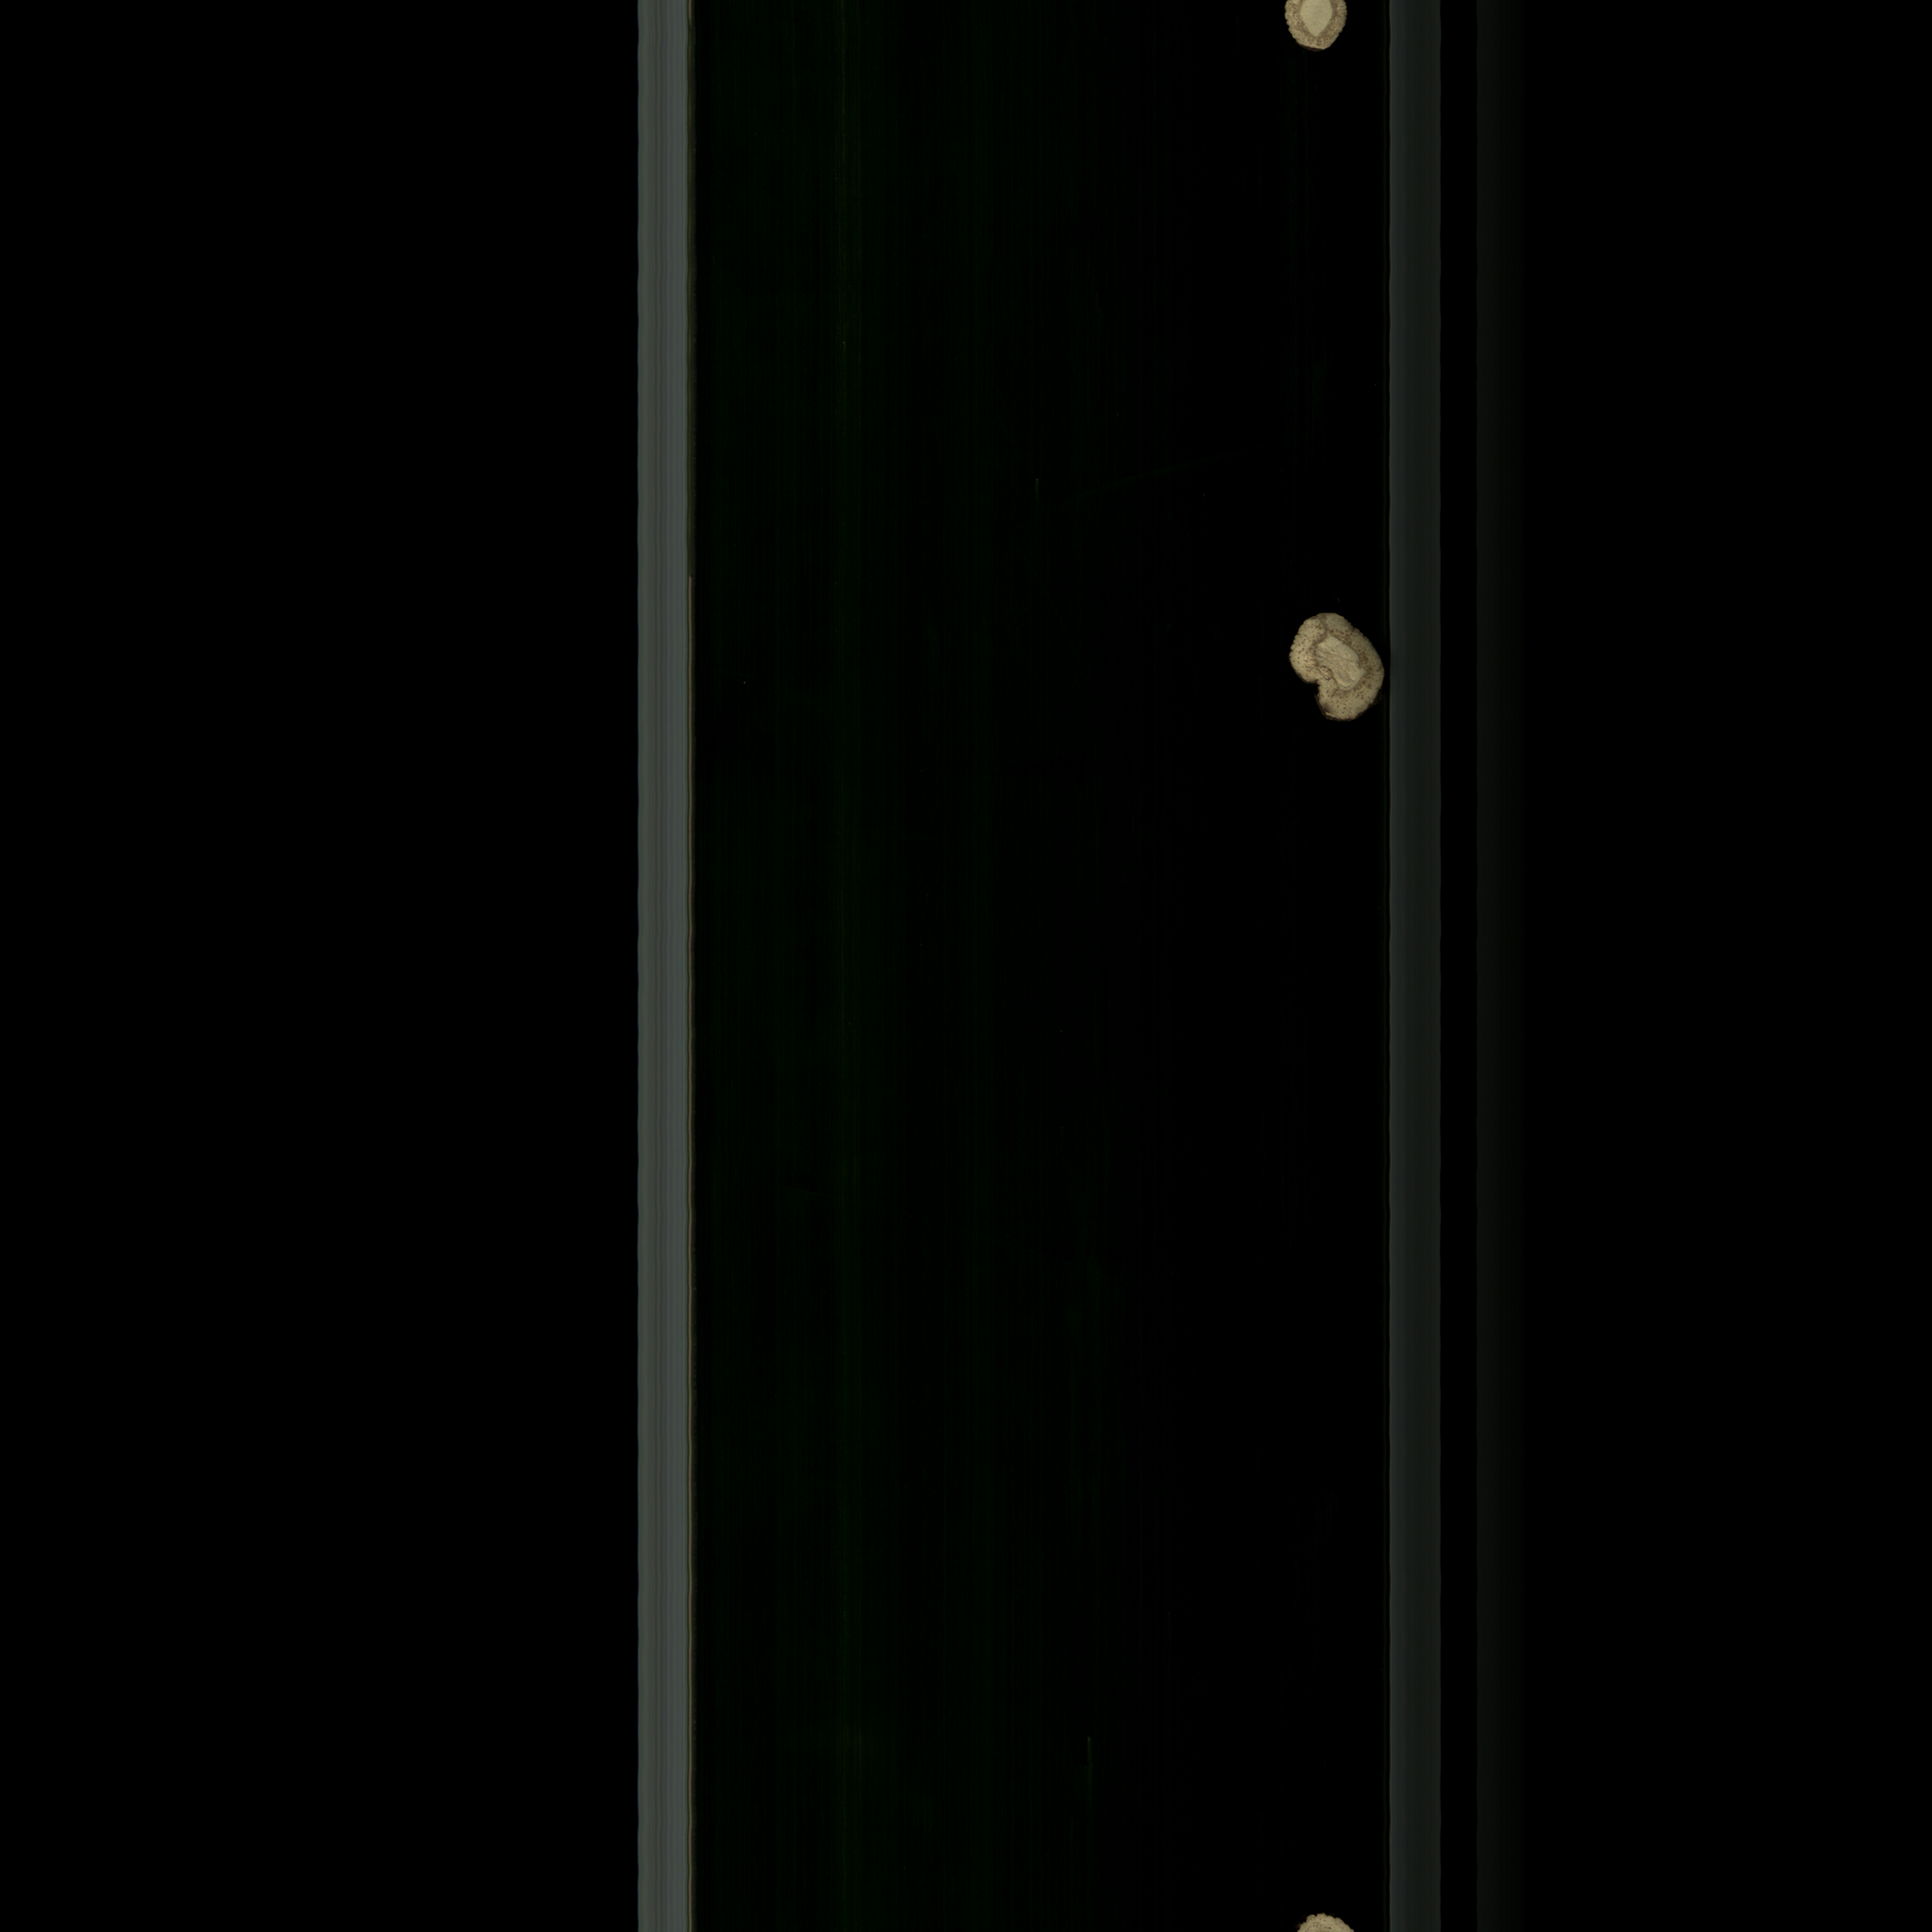moldy: (1292, 600, 1380, 734), (1256, 0, 1355, 58)
